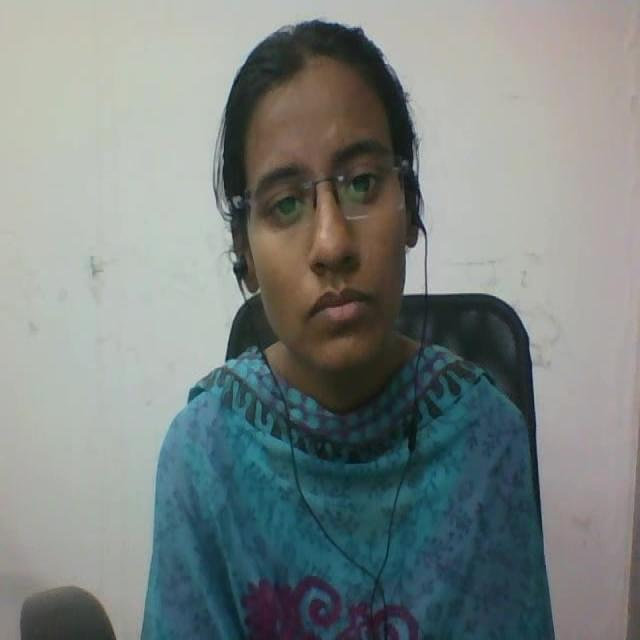Engaged: (196, 0, 461, 431)
